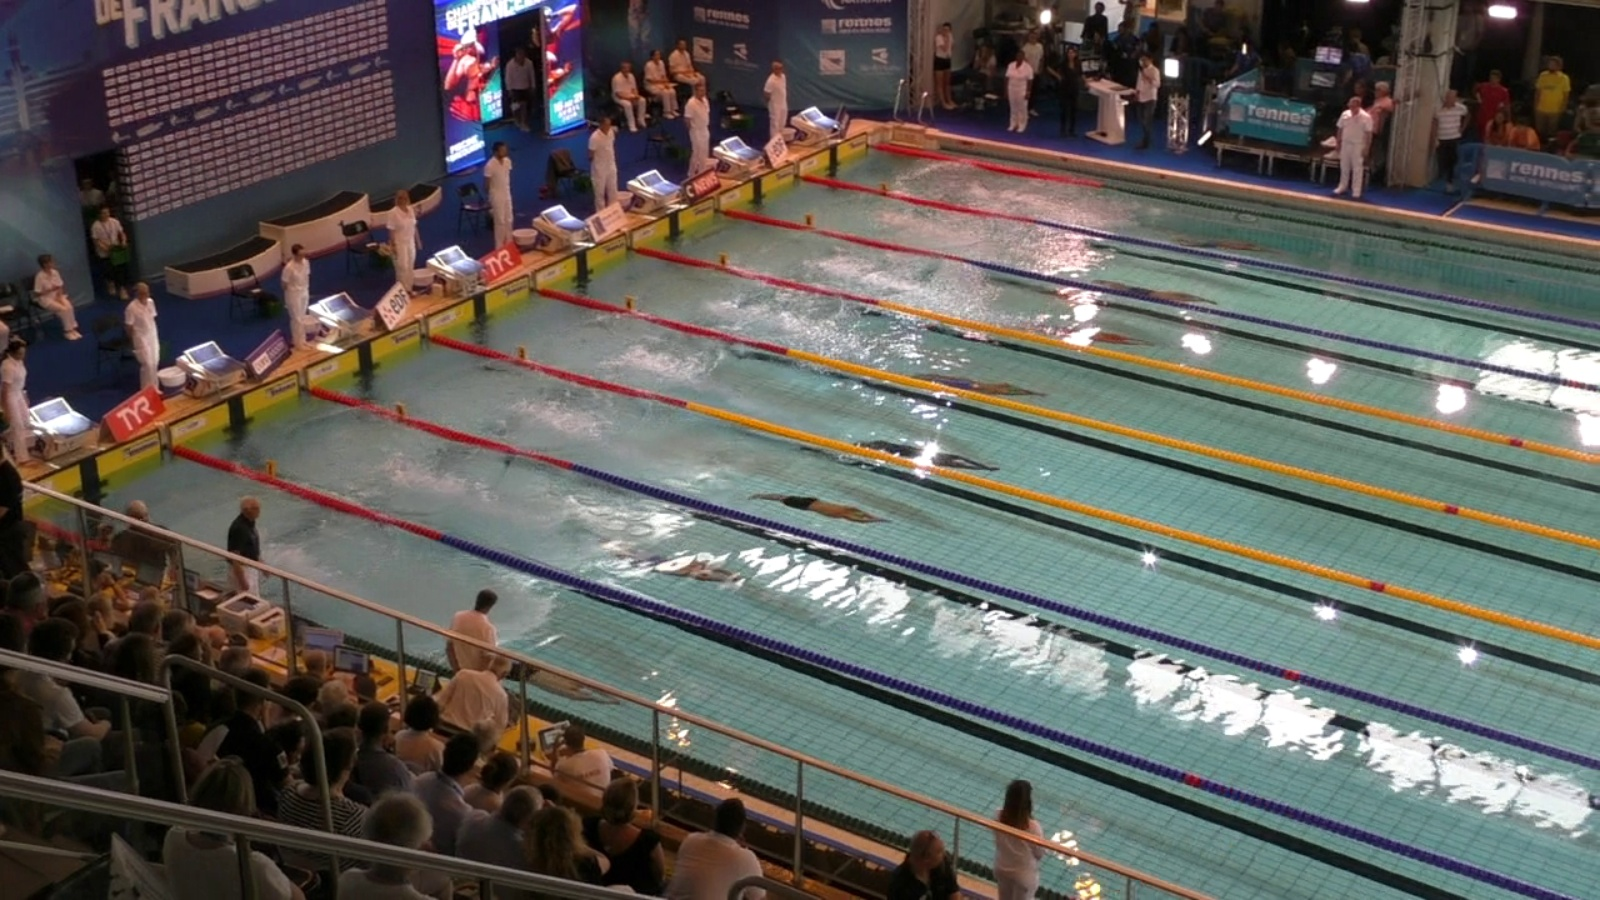swimmerw: (458, 644, 629, 708), (596, 543, 744, 587), (843, 441, 999, 473), (749, 490, 893, 524), (1084, 276, 1223, 308), (1016, 322, 1153, 349), (905, 370, 1047, 397), (1176, 236, 1273, 255)
